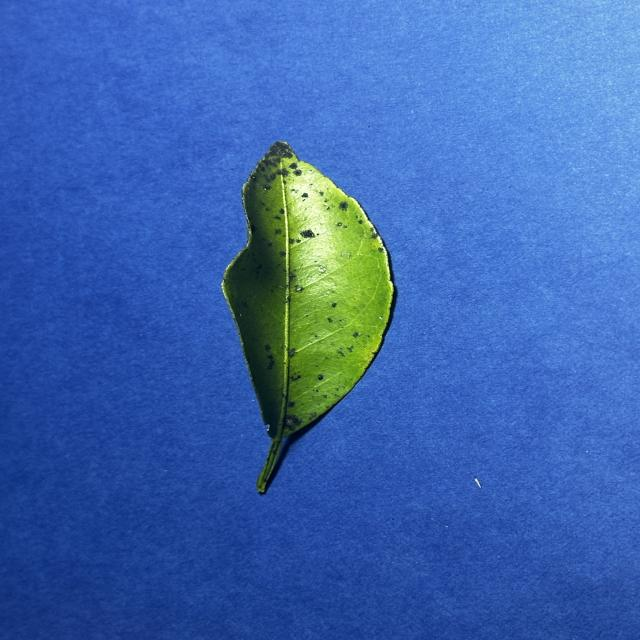sooty_mold: (223, 142, 393, 492)
